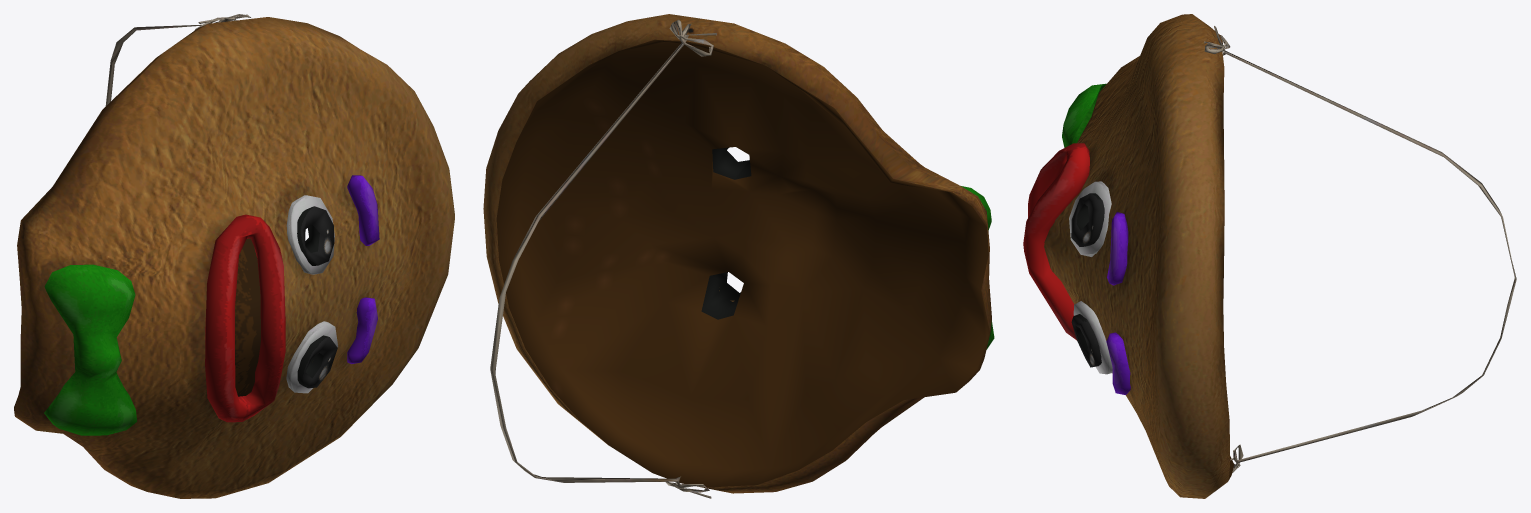
Rendered from F_GingerbreadMask.fbx.
3 renders of one model, left to right at view 1: azimuth 30°, elevation 25°; view 2: azimuth 150°, elevation 25°; view 3: azimuth 270°, elevation 25°, orthographic. The views are drawn at different scales.
Visible parts, largest first — view 1: 24_Mask_0.5_16_16.005; view 2: 24_Mask_0.5_16_16.005; view 3: 24_Mask_0.5_16_16.005.
Part boxes in pixels (box(x1,y1,x2,y2)): 24_Mask_0.5_16_16.005: box(14, 14, 454, 498); 24_Mask_0.5_16_16.005: box(483, 14, 994, 498); 24_Mask_0.5_16_16.005: box(1023, 14, 1516, 498).
Bounding box in the file's own units: 0.1666 × 0.1592 × 0.1609.
